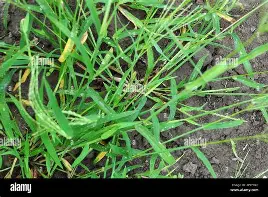weed: (0, 0, 267, 177)
